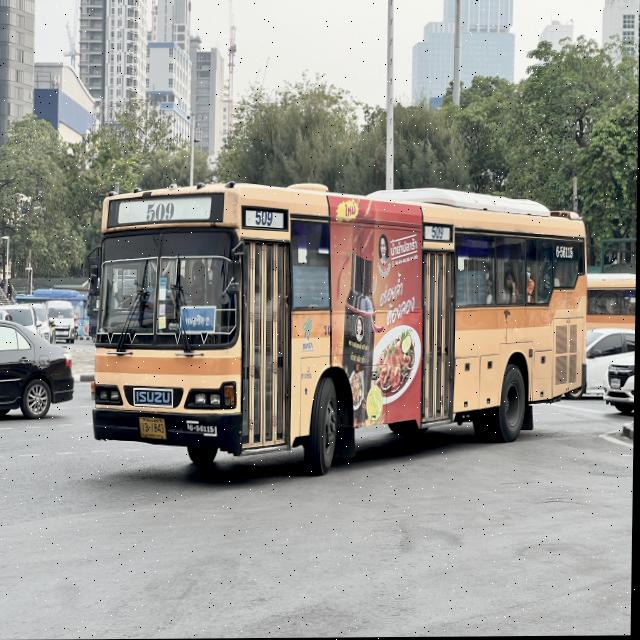BMTA-bus: (84, 172, 592, 484)
Bus Line Number: (143, 201, 178, 221)
Bus Side Number: (188, 421, 217, 436)
Destination Sign: (181, 306, 217, 333)
